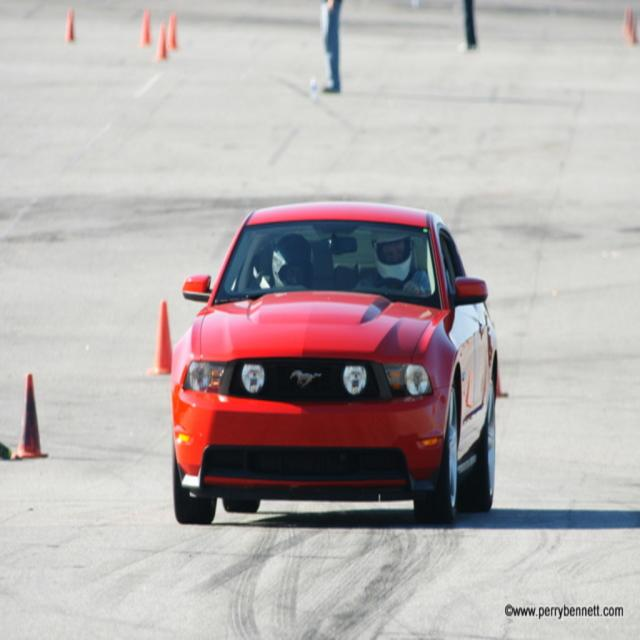car: (155, 201, 500, 519)
